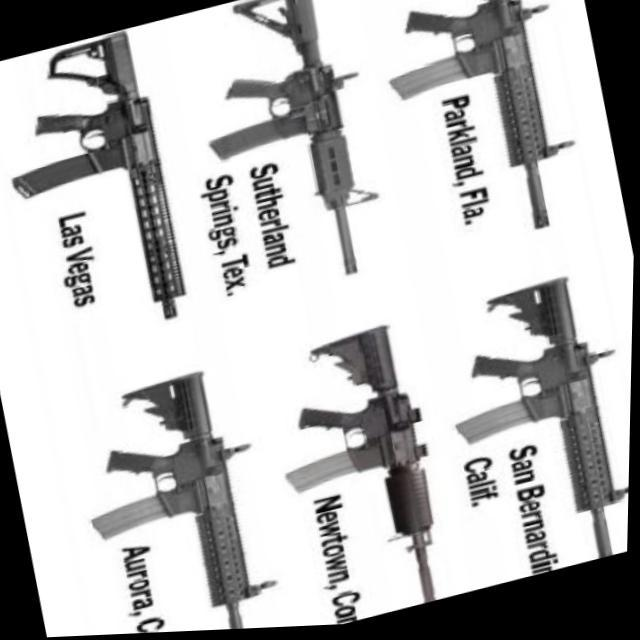weapon: (178, 0, 400, 305), (427, 270, 635, 594), (256, 318, 463, 630), (62, 360, 294, 638), (0, 25, 195, 352), (360, 0, 594, 262)
